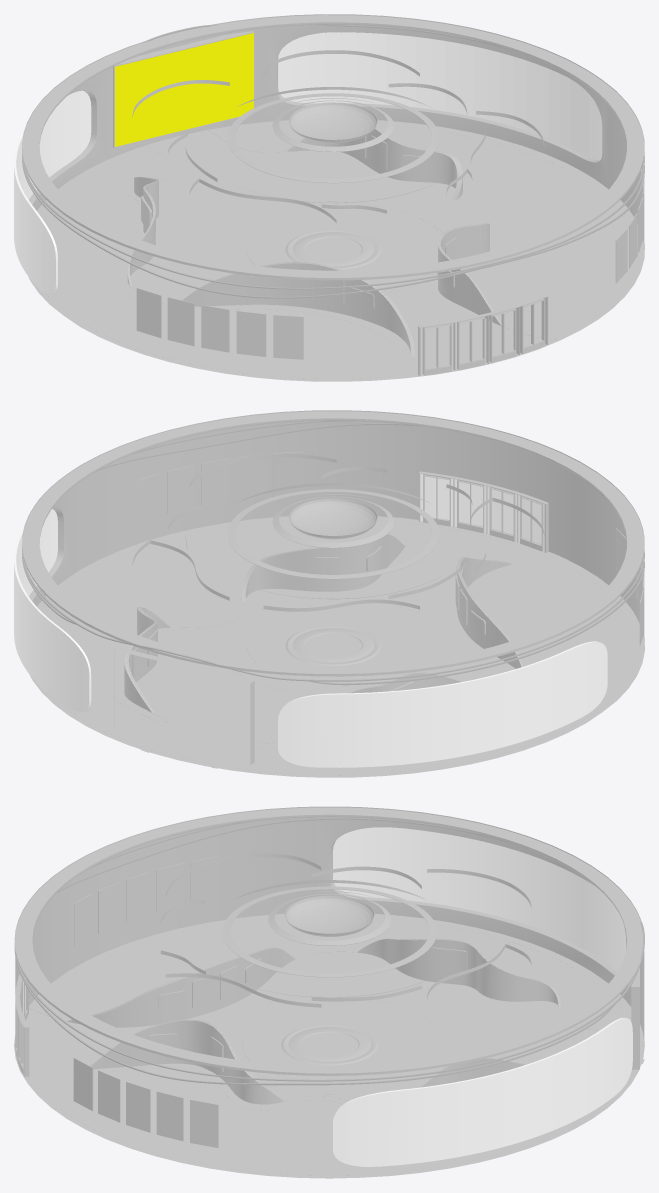
Rendered from model_venue.glb.
3 renders of one model, top to bottom at view 1: azimuth 30°, elevation 25°; view 2: azimuth 150°, elevation 25°; view 3: azimuth 270°, elevation 25°, orthographic.
Visible parts, largest first — view 1: venue, venue_glass_tex_1, top_light1, baffle, video1, draw_01, venue_light, ground_line1, ground_light2, ground_light1, door_1, venue_top (+2 smaller); view 2: venue, venue_glass_2, top_light1, baffle, venue_light, draw_tex_02, venue_glass_3, ground_light1, ground_light2, venue_top, ground_line1, door_1 (+4 smaller); view 3: venue, venue_glass_2, venue_glass_tex_1, top_light1, baffle, venue_light, draw_01, draw_tex_02, ground_light2, venue_top, ground_light1, draw_plane (+3 smaller).
Part boxes in pixels (<box>): venue: <box>22,14,644,381</box>; venue_glass_tex_1: <box>16,32,602,199</box>; top_light1: <box>22,15,644,280</box>; baffle: <box>127,127,501,356</box>; video1: <box>113,31,254,147</box>; draw_01: <box>136,169,643,359</box>; venue_light: <box>227,93,439,183</box>; ground_line1: <box>119,128,569,379</box>; ground_light2: <box>22,24,644,298</box>; ground_light1: <box>40,122,638,378</box>; door_1: <box>418,294,548,376</box>; venue_top: <box>132,50,544,223</box>; venue: <box>22,410,644,777</box>; venue_glass_2: <box>14,526,607,767</box>; top_light1: <box>22,411,644,676</box>; baffle: <box>124,534,523,712</box>; venue_light: <box>227,489,439,579</box>; draw_tex_02: <box>137,452,642,604</box>; venue_glass_3: <box>420,474,544,551</box>; ground_light1: <box>40,518,638,775</box>; ground_light2: <box>22,420,644,685</box>; venue_top: <box>132,453,544,611</box>; ground_line1: <box>112,517,569,768</box>; door_1: <box>418,471,548,552</box>; venue: <box>14,806,644,1178</box>; venue_glass_2: <box>333,838,632,1166</box>; venue_glass_tex_1: <box>333,827,625,971</box>; top_light1: <box>14,807,644,1075</box>; baffle: <box>68,938,560,1104</box>; venue_light: <box>222,886,436,977</box>; draw_01: <box>73,856,218,1147</box>; draw_tex_02: <box>74,857,218,945</box>; ground_light2: <box>14,818,644,1085</box>; venue_top: <box>160,853,531,1007</box>; ground_light1: <box>26,916,632,1175</box>; draw_plane: <box>148,947,467,1073</box>.
Size of the model in its own units: 36 by 8.4 by 35.23.
17 materials, 1 textured.
